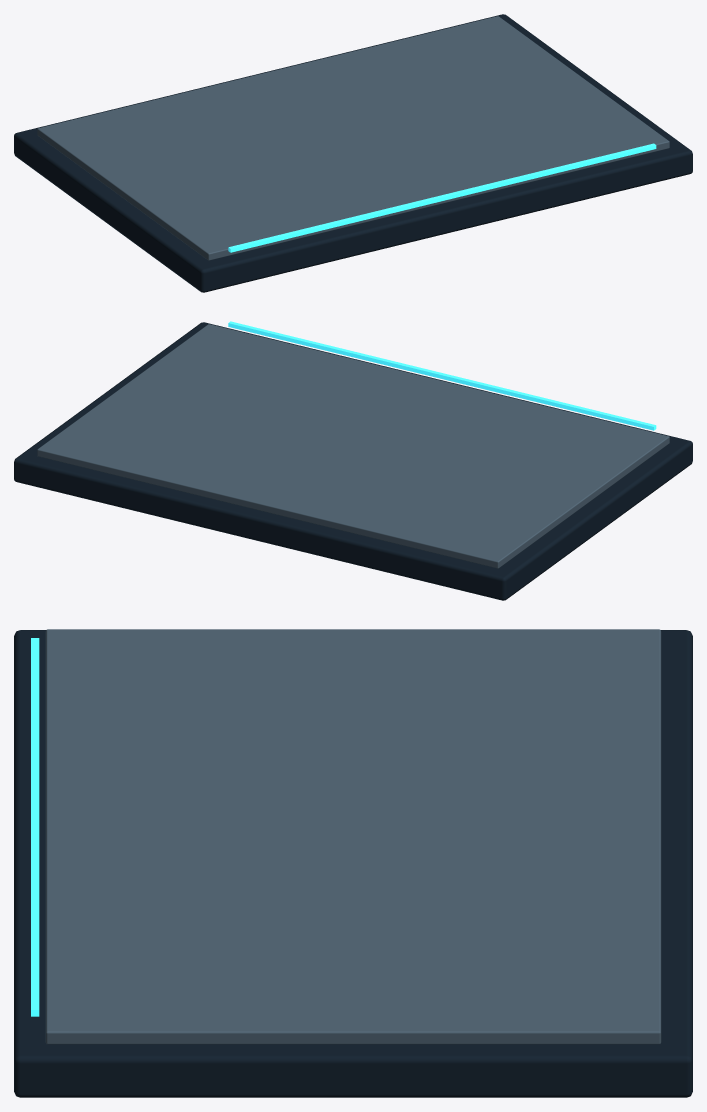
The model's file is station-plinth.glb.
3 renders of one model, top to bottom at view 1: azimuth 30°, elevation 25°; view 2: azimuth 150°, elevation 25°; view 3: azimuth 270°, elevation 25°, orthographic. The views are drawn at different scales.
Parts seen in each view (by area): view 1: inlay, base, status_strip; view 2: inlay, base, status_strip; view 3: inlay, base, status_strip.
Part boxes in pixels (x1,y1,x2,y2): inlay: (37,16,669,260); base: (14,14,692,292); status_strip: (228,143,656,252); inlay: (37,324,669,568); base: (14,322,692,600); status_strip: (228,321,656,430); inlay: (45,629,661,1044); base: (14,630,692,1097); status_strip: (31,638,39,1016).
Size of the model in its own units: 4.8 by 0.3175 by 3.2.
